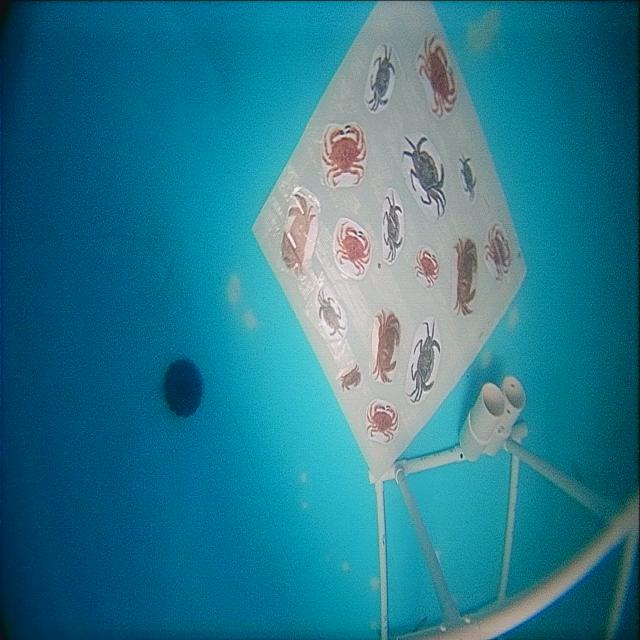GreenCrab: (403, 137, 446, 217), (409, 322, 441, 403), (367, 45, 395, 111), (383, 190, 403, 262)
